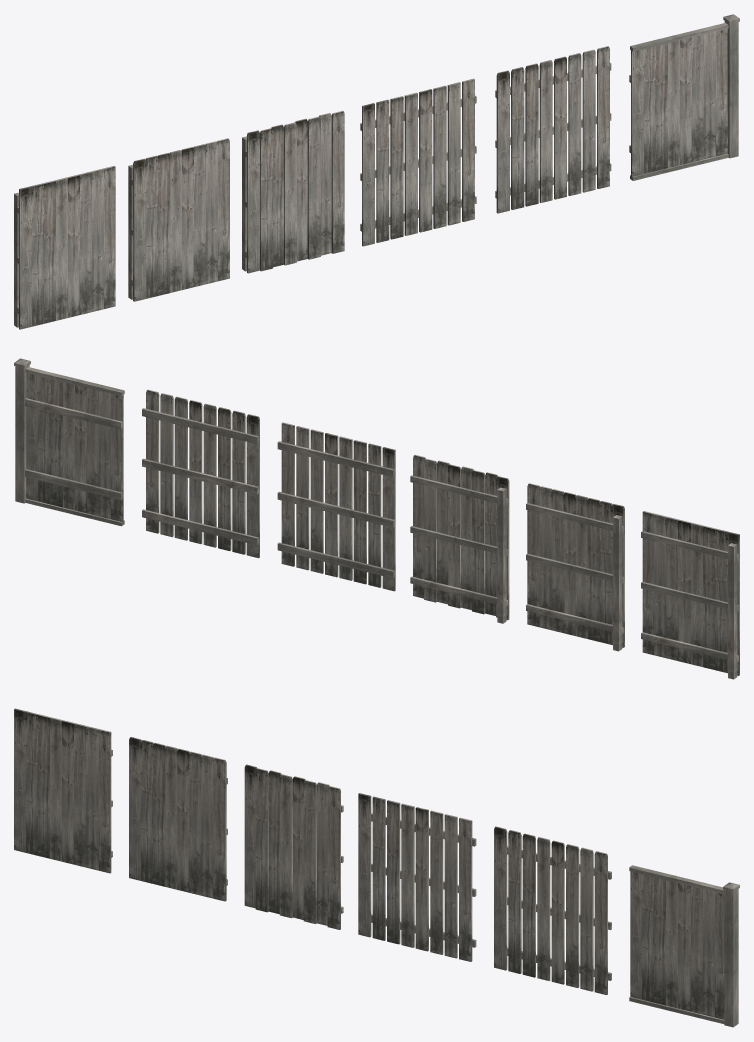
File: fence_psx.glb
3 renders of one model, top to bottom at view 1: azimuth 30°, elevation 25°; view 2: azimuth 150°, elevation 25°; view 3: azimuth 330°, elevation 25°, orthographic.
Parts seen in each view (by area): view 1: FenceV4, FenceV5, FenceV6, FenceV3, FenceV1, FenceV2, FenceV1Rails, FenceRailsV3, FenceRailsV2; view 2: FenceV4, FenceV5, FenceV6, FenceV1, FenceV2, FenceV3, FenceRailsV2, FenceV1Rails, FenceRailsV3; view 3: FenceV4, FenceV5, FenceV6, FenceV1, FenceV2, FenceV3.
Boxes of the visible parts, x1,y1,x2,y2 form: FenceV4: [360, 78, 476, 246]; FenceV5: [495, 46, 611, 213]; FenceV6: [629, 14, 739, 180]; FenceV3: [247, 110, 344, 273]; FenceV1: [19, 166, 115, 329]; FenceV2: [133, 138, 229, 301]; FenceV1Rails: [14, 192, 18, 327]; FenceRailsV3: [242, 136, 246, 271]; FenceRailsV2: [128, 164, 132, 299]; FenceV4: [277, 422, 395, 591]; FenceV5: [142, 389, 259, 558]; FenceV6: [14, 358, 124, 526]; FenceV1: [642, 511, 739, 675]; FenceV2: [527, 483, 624, 647]; FenceV3: [413, 454, 509, 619]; FenceRailsV2: [526, 503, 623, 651]; FenceV1Rails: [641, 531, 738, 679]; FenceRailsV3: [410, 475, 507, 623]; FenceV4: [358, 793, 476, 961]; FenceV5: [494, 826, 611, 994]; FenceV6: [629, 865, 739, 1027]; FenceV1: [14, 708, 111, 873]; FenceV2: [129, 737, 226, 901]; FenceV3: [244, 764, 340, 929].
Size of the model in its own units: 10.67 by 1.99 by 0.2343.
1 material, 1 textured.
